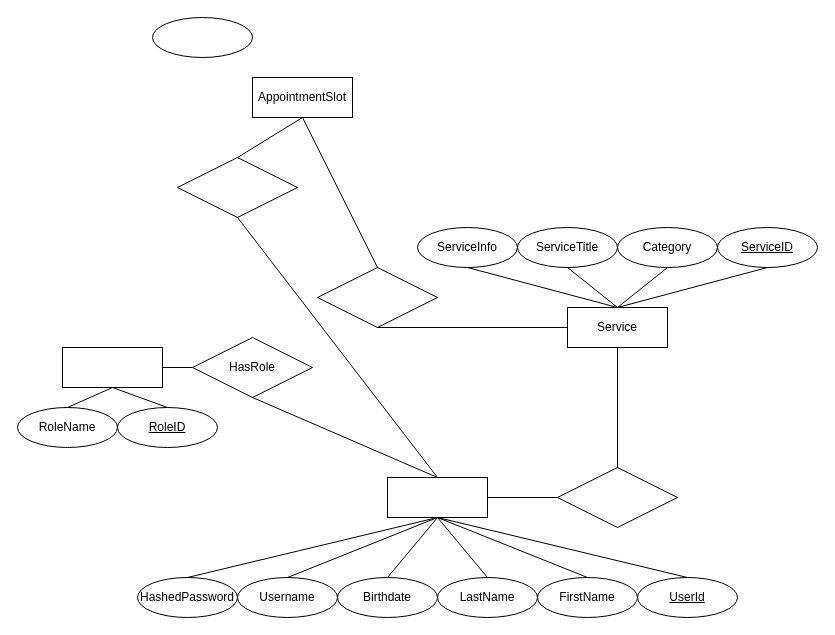
This 835x635 diagram has some shape labels left out. Here are the shapes that lost their labels. From the top down, the centre of each, then its label:
At pixel 237 187: "Books".
At pixel 377 297: "Provides".
At pixel 112 367: "Role".
At pixel 437 497: "User".
At pixel 617 497: "Offers".
